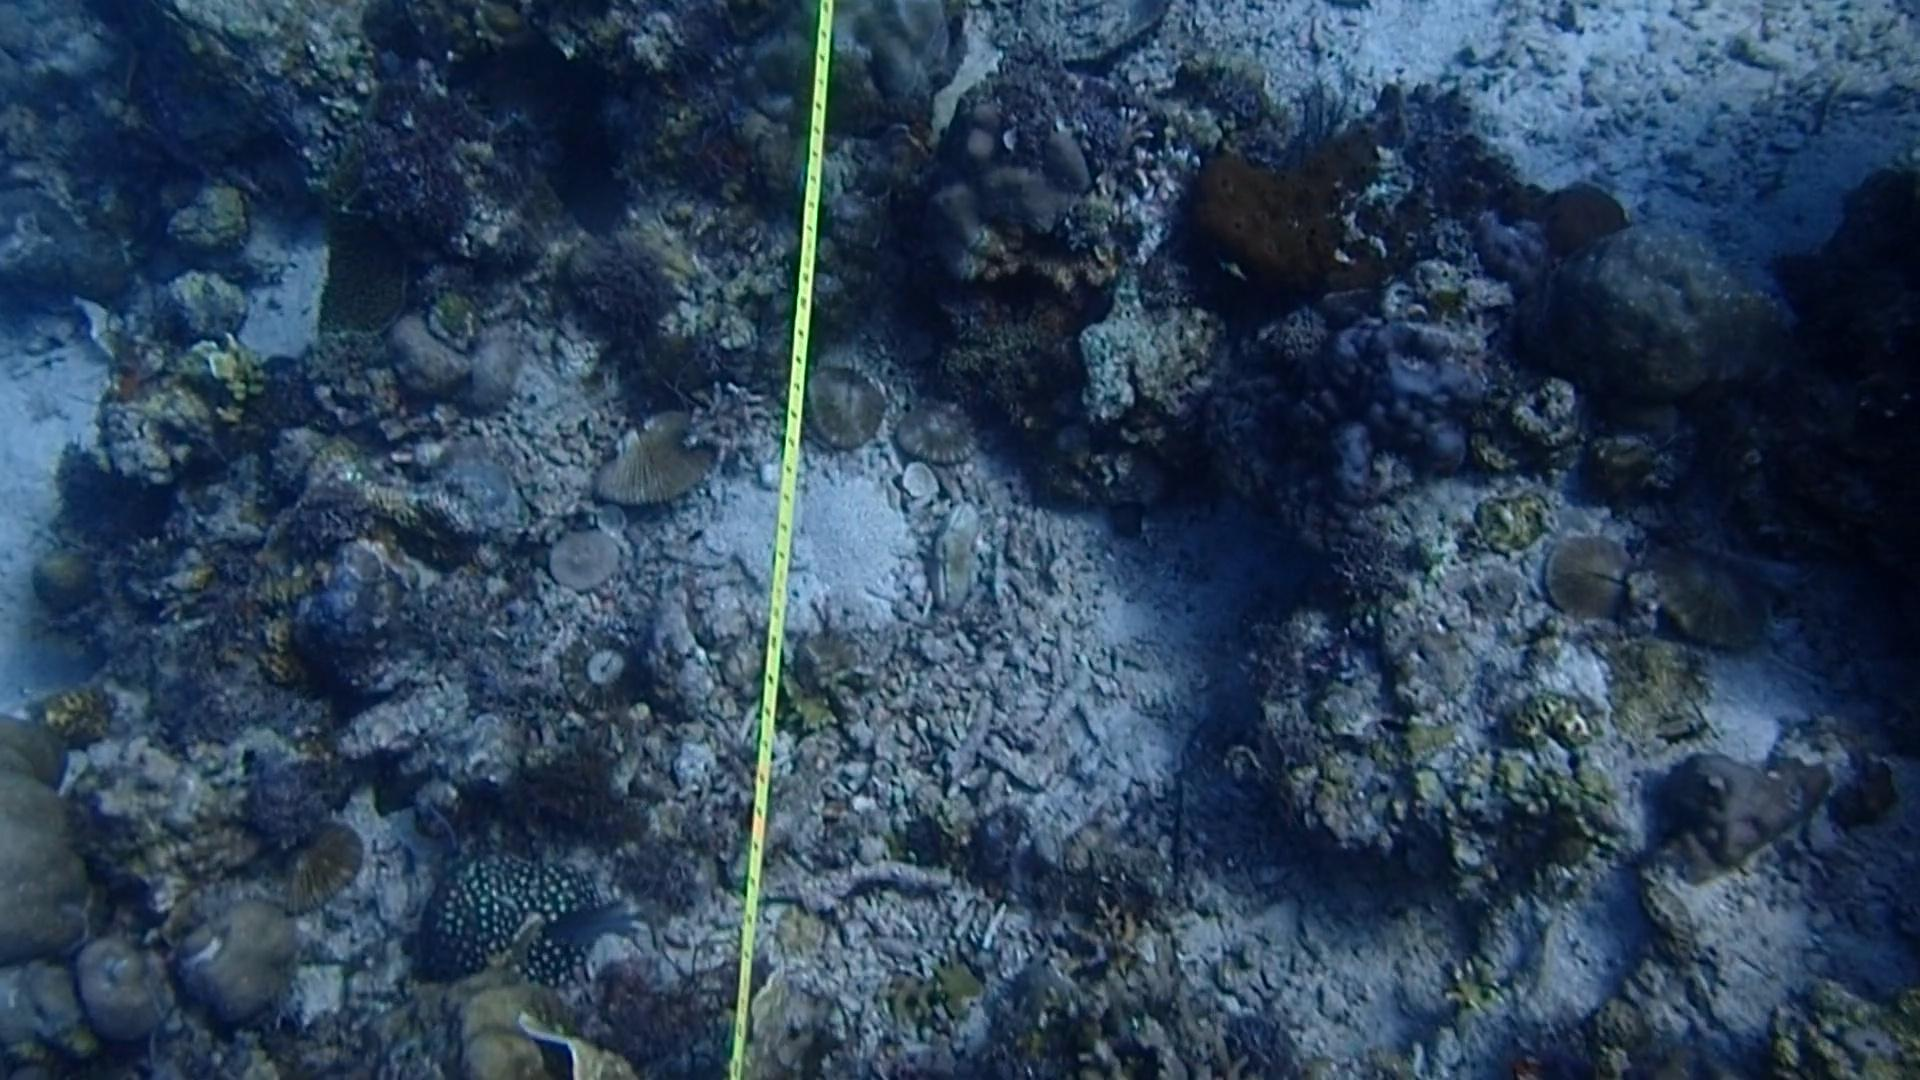Light Fish: (539, 881, 637, 965)
